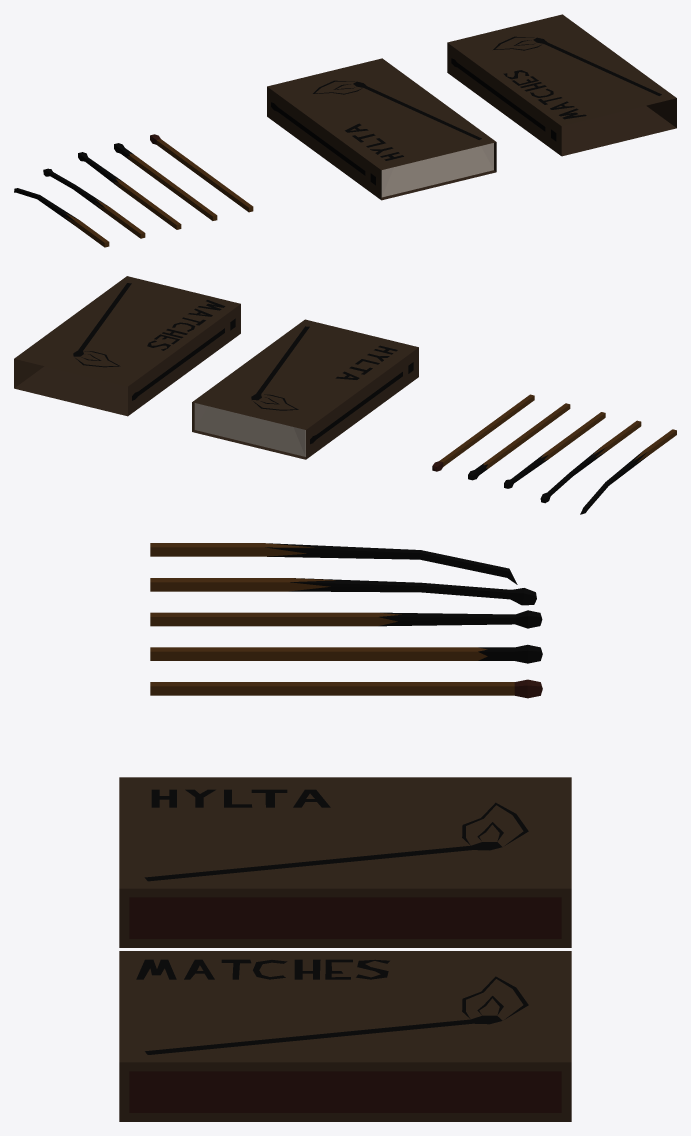
File: low-poly_matches.fbx
3 views of the same model, one above another, from view 1: azimuth 30°, elevation 25°; view 2: azimuth 150°, elevation 25°; view 3: azimuth 270°, elevation 25° (orthographic). The views are drawn at different scales.
Visible parts, largest first — view 1: outside_generic_7, outside_original_0, inside_1, unused_2, burnt_1_3, burnt_2_4, burnt_3_5, burnt_4_6; view 2: outside_generic_7, outside_original_0, inside_1, unused_2, burnt_1_3, burnt_2_4, burnt_3_5, burnt_4_6; view 3: outside_original_0, outside_generic_7, burnt_1_3, unused_2, burnt_2_4, burnt_3_5, burnt_4_6.
Part boxes in pixels (left/top/right/bottom): outside_generic_7: left=447, top=14, right=676, bottom=156; outside_original_0: left=267, top=58, right=496, bottom=200; inside_1: left=381, top=143, right=493, bottom=197; unused_2: left=150, top=134, right=253, bottom=212; burnt_1_3: left=114, top=143, right=217, bottom=220; burnt_2_4: left=78, top=152, right=181, bottom=229; burnt_3_5: left=43, top=168, right=145, bottom=238; burnt_4_6: left=14, top=188, right=109, bottom=247; outside_generic_7: left=14, top=276, right=240, bottom=416; outside_original_0: left=192, top=319, right=418, bottom=459; inside_1: left=194, top=403, right=305, bottom=456; unused_2: left=432, top=394, right=534, bottom=471; burnt_1_3: left=468, top=403, right=570, bottom=480; burnt_2_4: left=504, top=412, right=605, bottom=488; burnt_3_5: left=540, top=420, right=641, bottom=503; burnt_4_6: left=580, top=429, right=676, bottom=514; outside_original_0: left=119, top=777, right=571, bottom=947; outside_generic_7: left=119, top=951, right=571, bottom=1121; burnt_1_3: left=150, top=644, right=542, bottom=663; unused_2: left=150, top=679, right=542, bottom=698; burnt_2_4: left=150, top=610, right=542, bottom=628; burnt_3_5: left=150, top=578, right=536, bottom=605; burnt_4_6: left=150, top=543, right=517, bottom=584.
Bounding box in the file's own units: 0.3132 × 0.0167 × 0.11.
